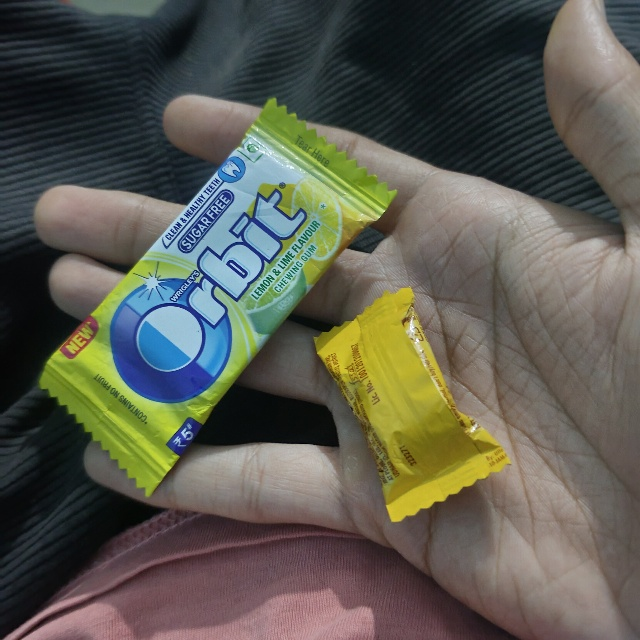Alpenlibe Creamfills: (304, 341, 424, 545)
Orbit: (276, 97, 446, 479)
